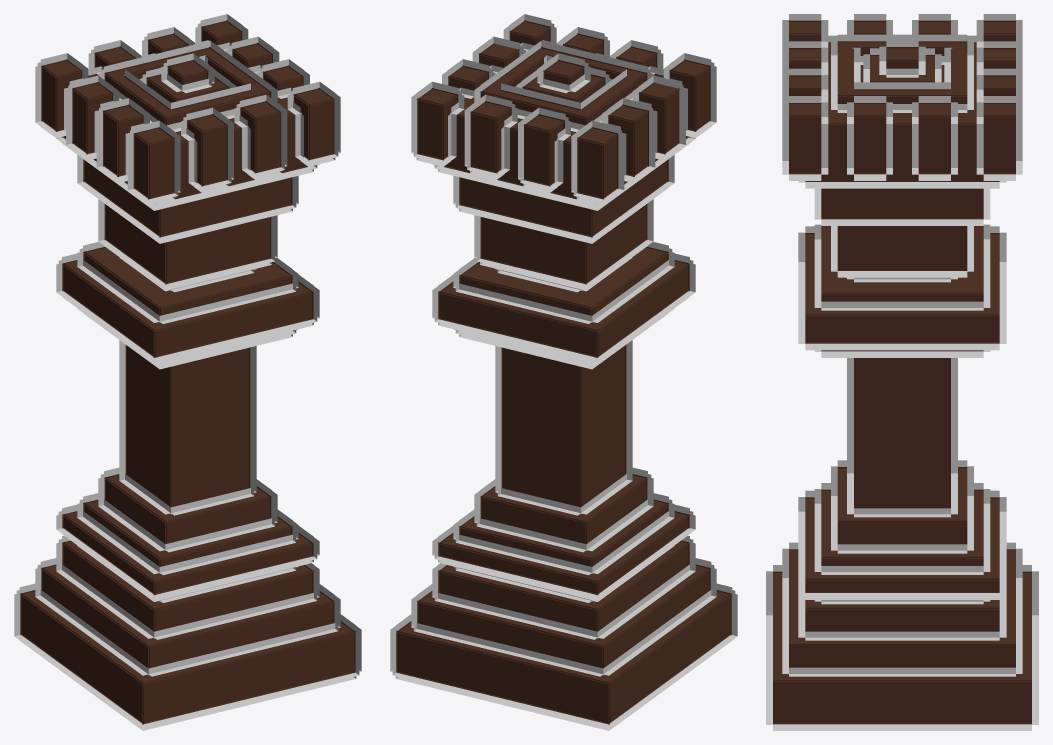
The model's file is brown-queen.glb.
The picture shows the model from 3 angles, left to right: view 1: azimuth 30°, elevation 25°; view 2: azimuth 150°, elevation 25°; view 3: azimuth 270°, elevation 25°; orthographic projection. The views are drawn at different scales.
Parts seen in each view (by area): view 1: chess-queen-brown_model; view 2: chess-queen-brown_model; view 3: chess-queen-brown_model.
Boxes of the visible parts, box(x1,y1,x2,y2) form: chess-queen-brown_model: box(14, 14, 361, 730); chess-queen-brown_model: box(390, 14, 737, 730); chess-queen-brown_model: box(766, 14, 1038, 730).
Size of the model in its own units: 1.68 by 4.28 by 1.68.
Materials: 2 (1 with a texture image).
